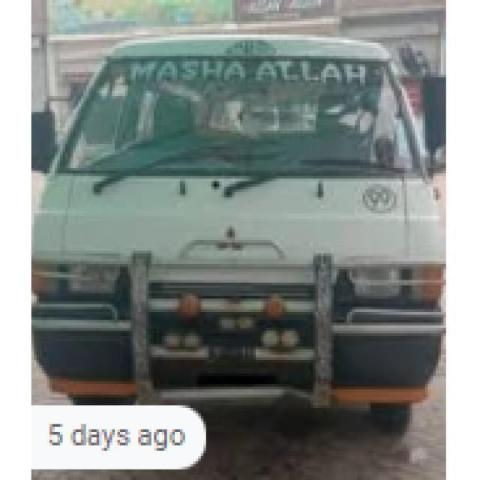van: (37, 27, 444, 414)
